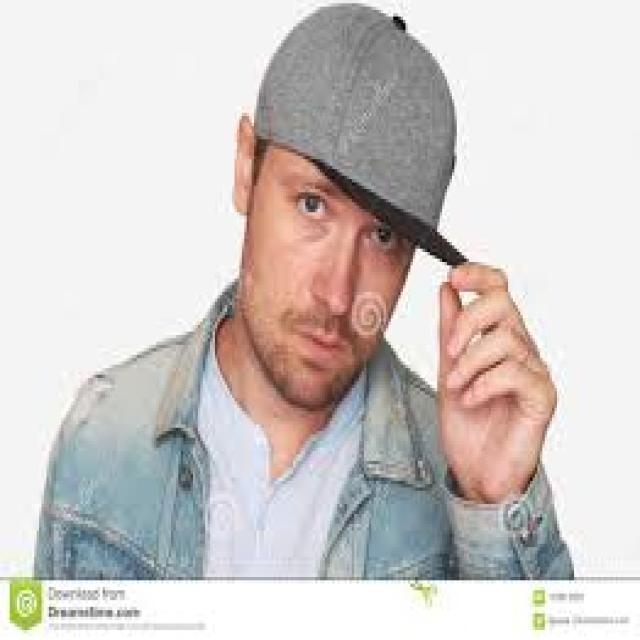cap: (230, 0, 478, 418)
